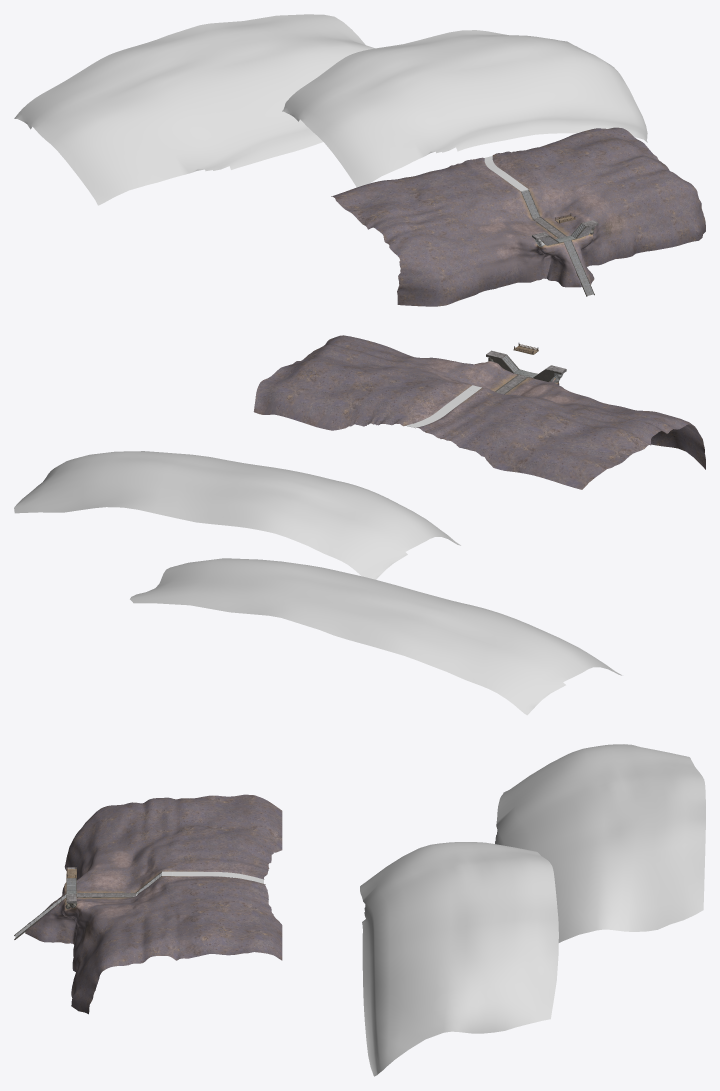
File: Netherworld.FBX
3 views of the same model, one above another, from view 1: azimuth 30°, elevation 25°; view 2: azimuth 150°, elevation 25°; view 3: azimuth 270°, elevation 25° (orthographic). The views are drawn at different scales.
Parts seen in each view (by area): view 1: 14uv, smol mountain001, smol mountain; view 2: 14uv, smol mountain001, smol mountain, Box094; view 3: smol mountain, 14uv, smol mountain001, Box094.
Boxes of the visible parts, <box> form: 14uv: <box>331,127,705,306</box>; smol mountain001: <box>14,14,374,205</box>; smol mountain: <box>282,30,647,187</box>; 14uv: <box>253,335,705,489</box>; smol mountain001: <box>130,558,622,715</box>; smol mountain: <box>14,451,460,579</box>; Box094: <box>406,385,481,427</box>; smol mountain: <box>360,842,558,1076</box>; 14uv: <box>25,794,282,1014</box>; smol mountain001: <box>495,744,705,942</box>; Box094: <box>162,871,263,883</box>.
Size of the model in its own units: 5519 by 5831 by 932.
